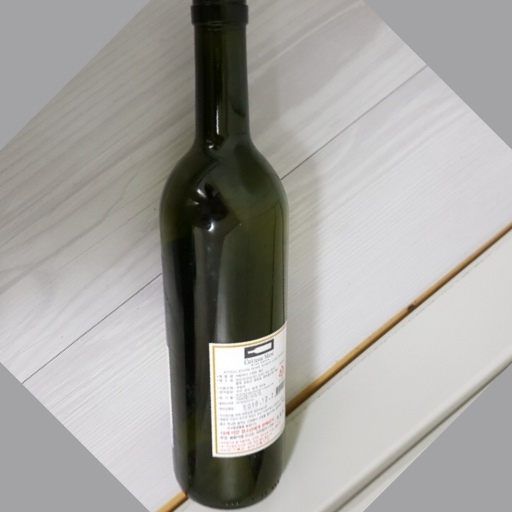Glass_2: (156, 1, 288, 511)
